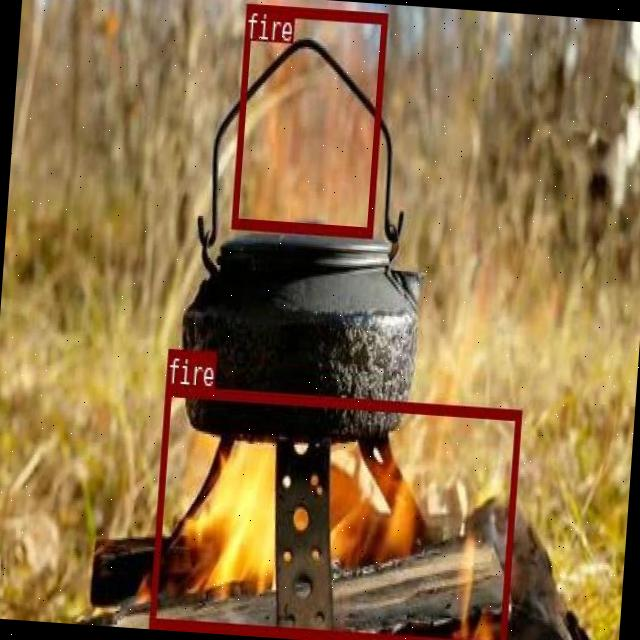fire: (148, 384, 519, 640), (230, 2, 386, 235)
